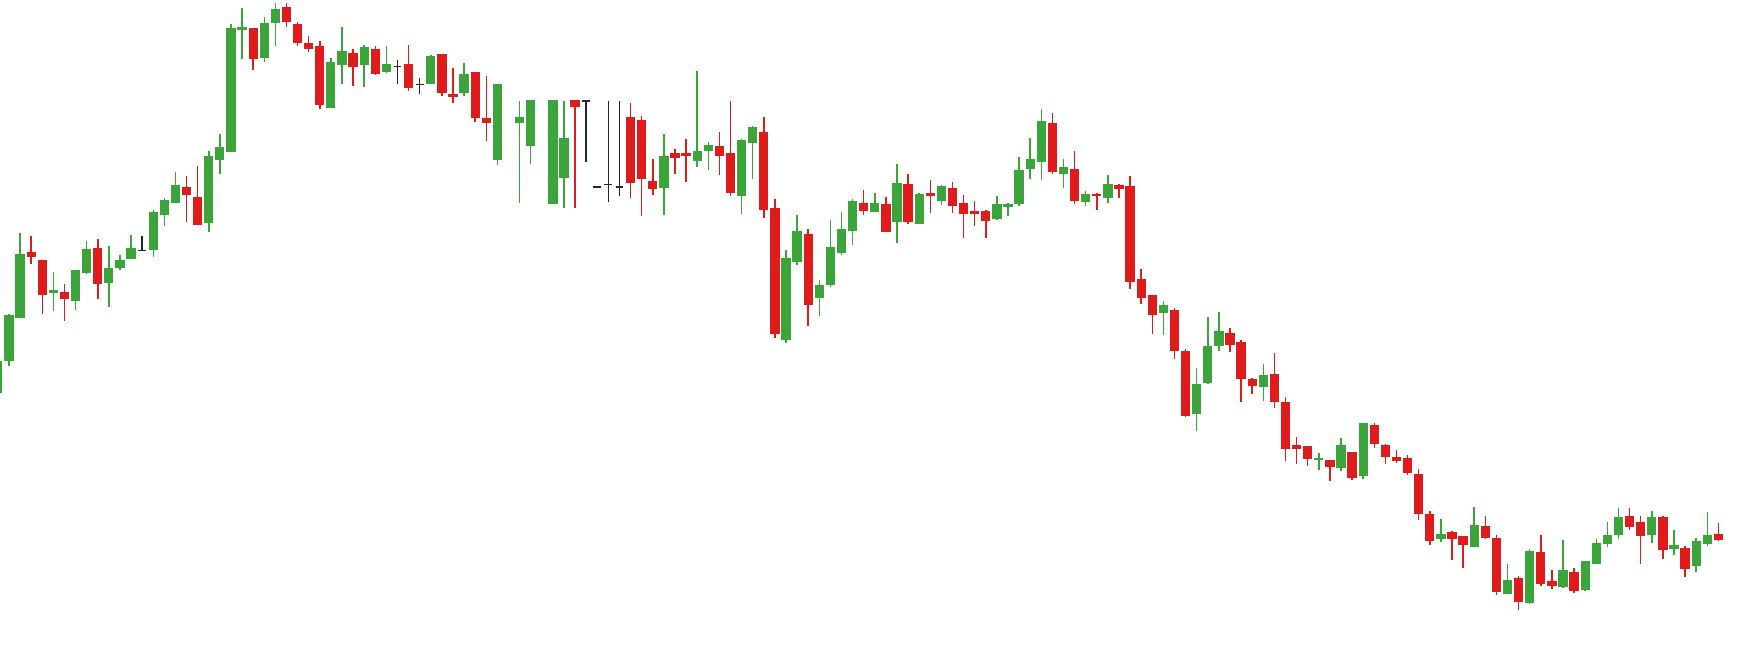sell: (890, 110, 1060, 213)
